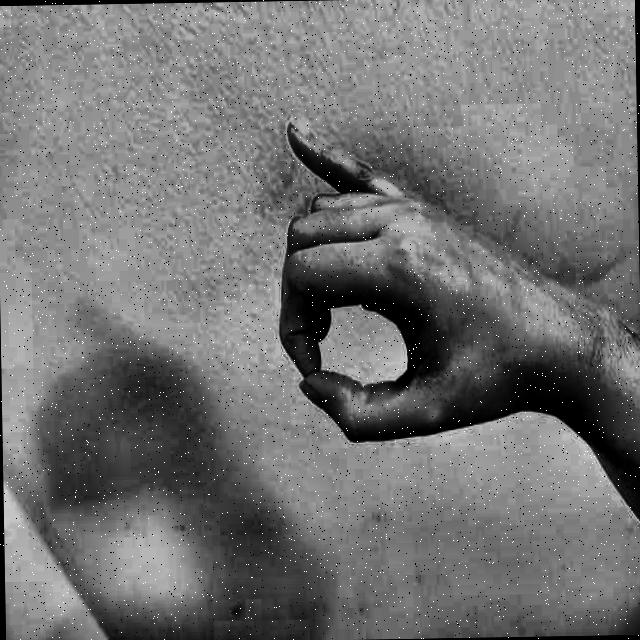Ou: (250, 96, 568, 513)
